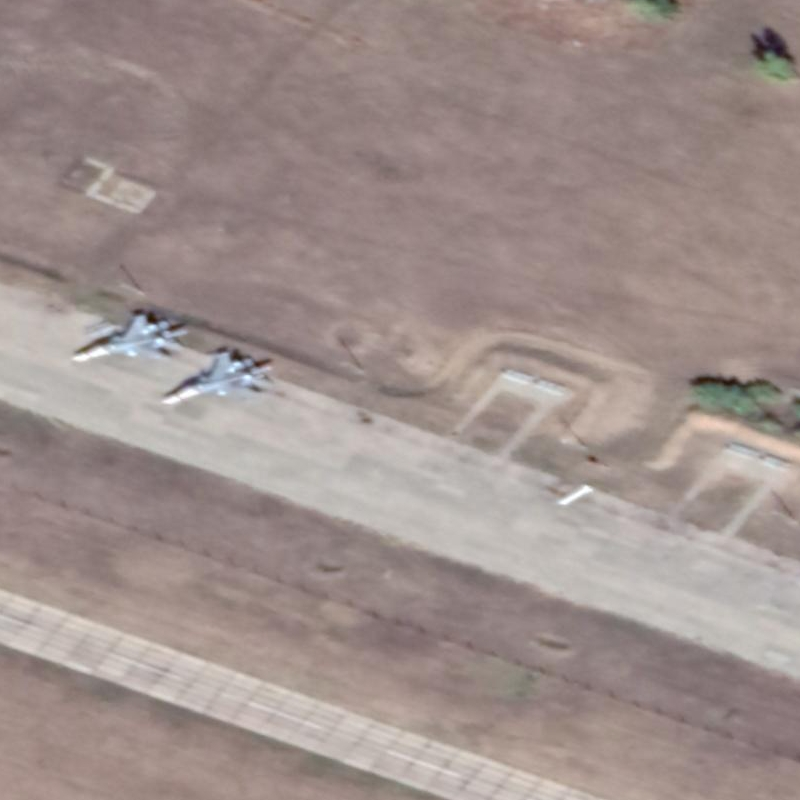A19: (158, 348, 275, 408), (69, 310, 192, 364)
